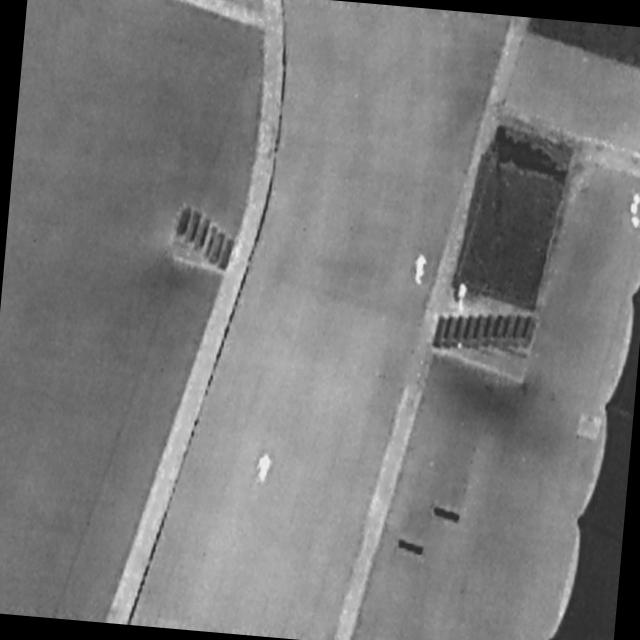person: (254, 450, 275, 487), (412, 250, 429, 289), (453, 283, 470, 315)
